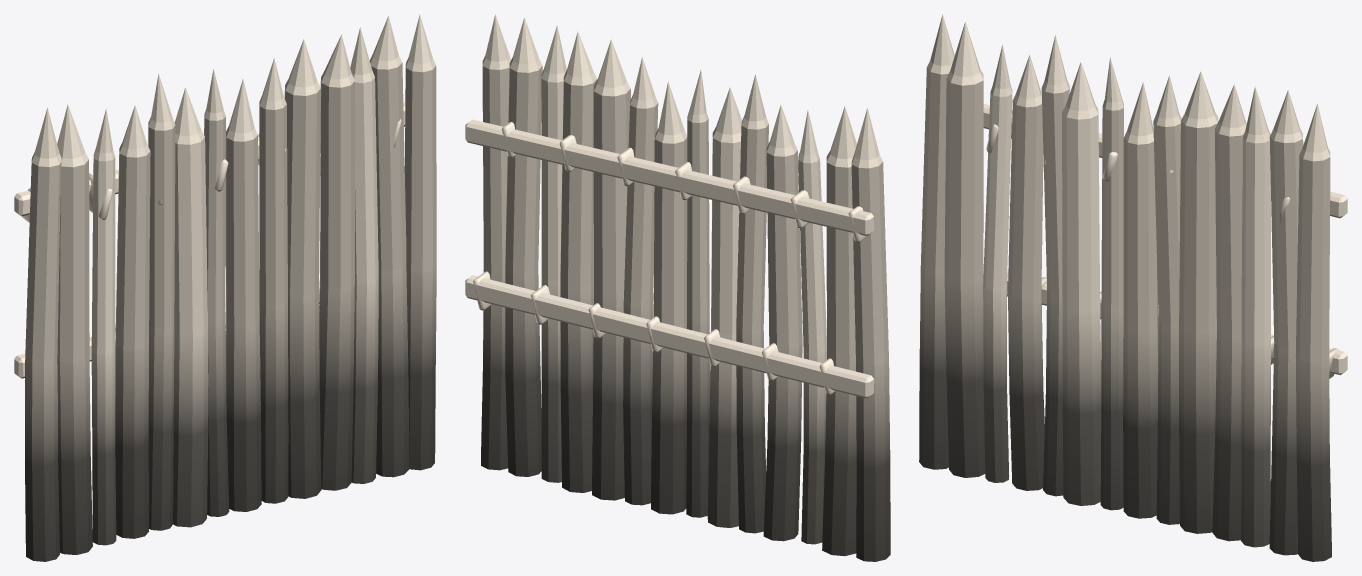
The model's file is SM_VK_Palisade_Diag.fbx.
The picture shows the model from 3 angles, left to right: view 1: azimuth 30°, elevation 25°; view 2: azimuth 150°, elevation 25°; view 3: azimuth 330°, elevation 25°; orthographic projection.
Parts seen in each view (by area): view 1: SM_VK_Palisade_Diag.001; view 2: SM_VK_Palisade_Diag.001; view 3: SM_VK_Palisade_Diag.001.
Part boxes in pixels (x1=…): SM_VK_Palisade_Diag.001: x1=14, y1=14, x2=436, y2=561; SM_VK_Palisade_Diag.001: x1=465, y1=14, x2=890, y2=561; SM_VK_Palisade_Diag.001: x1=919, y1=14, x2=1347, y2=561.
Size of the model in its own units: 4.27 by 4.55 by 0.5082.
